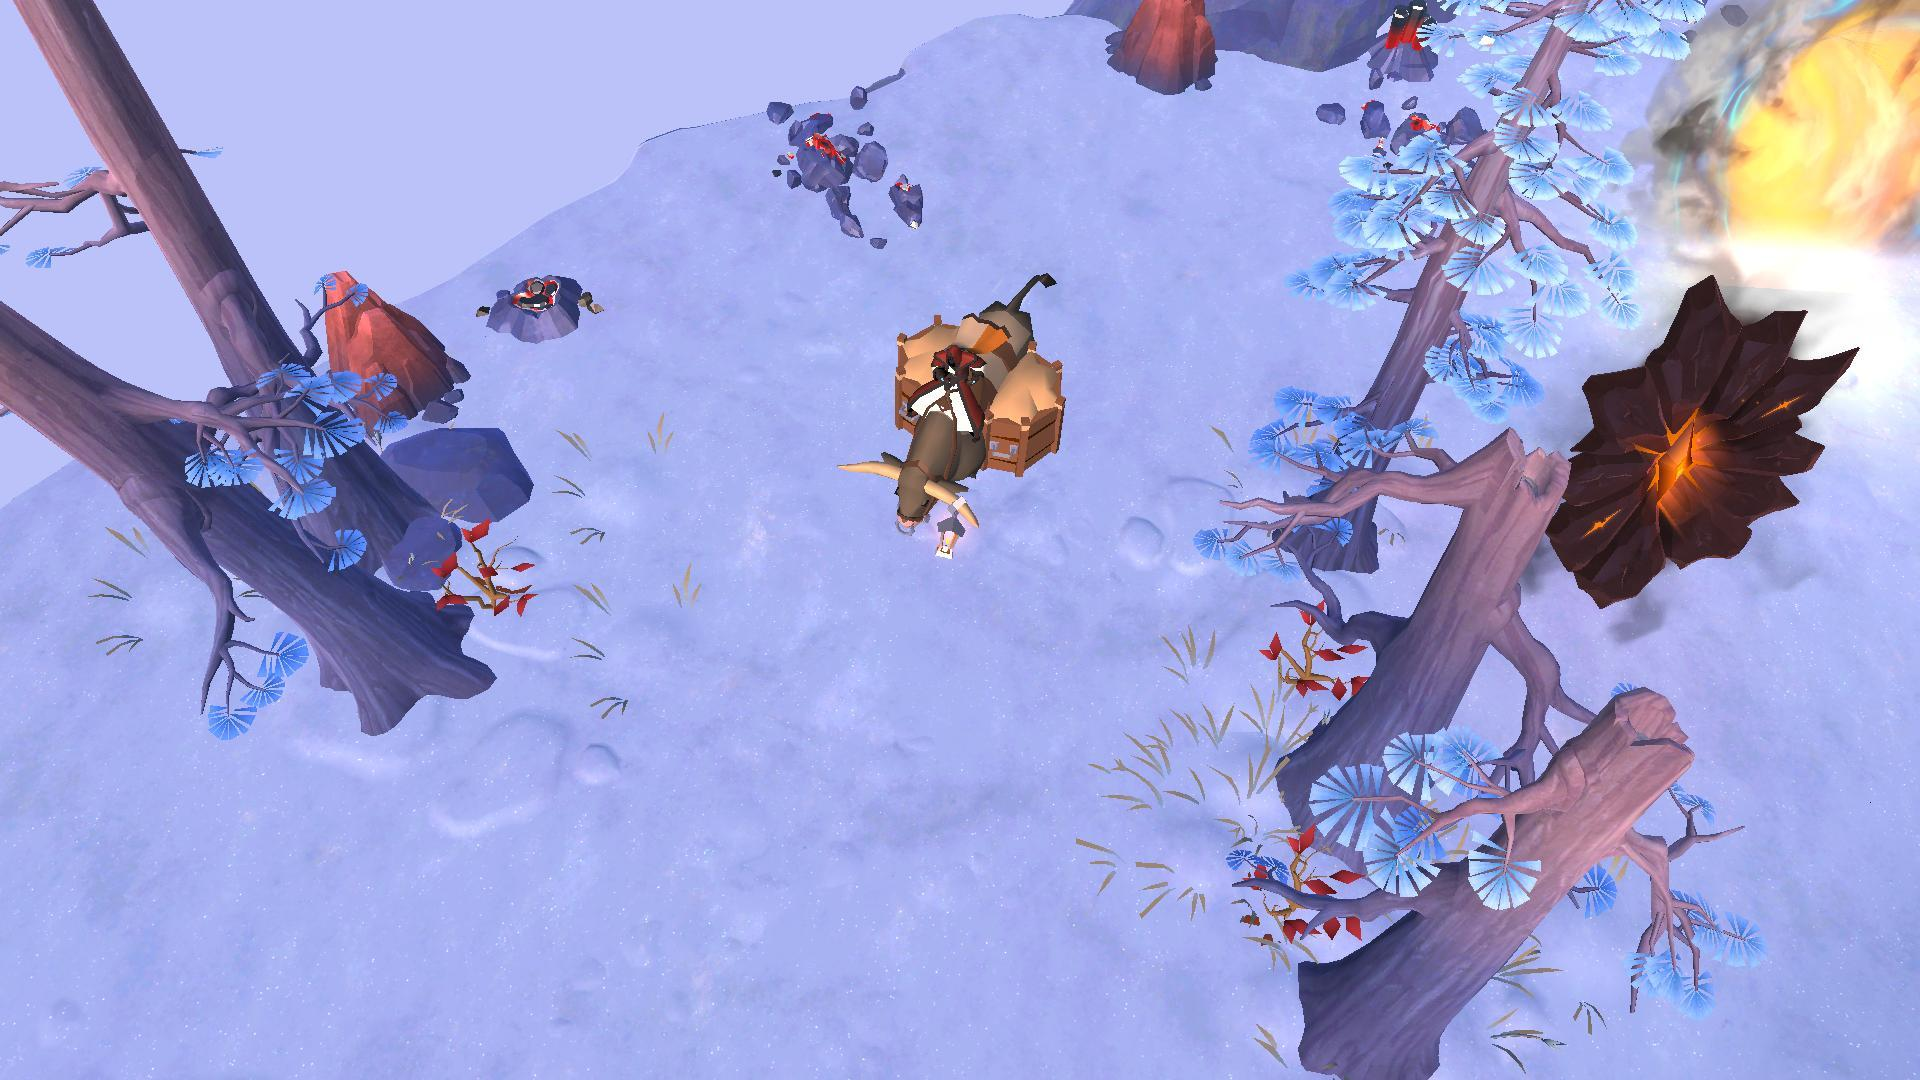ore_t5: (1378, 0, 1437, 61)
rock_t5: (306, 268, 469, 422), (1093, 0, 1215, 94)
